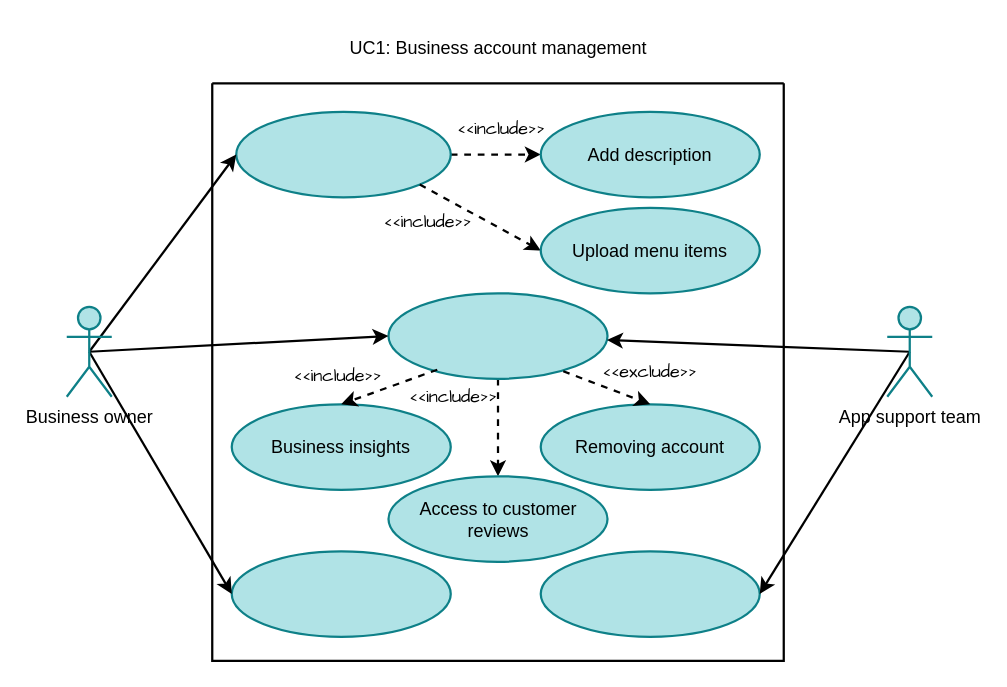
Some shapes in this 1007 by 687 pixel diagram are drawn without their labels. The shapes that lost their labels are listed below. From the top down, each one's centre as x and y in pixels, then its label:
At point (342, 154): "Create business account".
At point (497, 335): "Managing account".
At point (340, 593): "Advertisment".
At point (649, 593): "Upload food rating database info".
